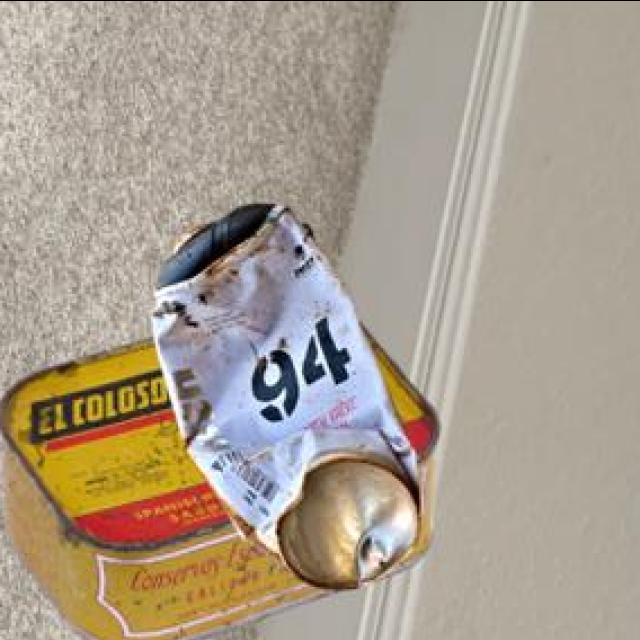logam: (1, 319, 443, 640), (157, 202, 423, 585)
